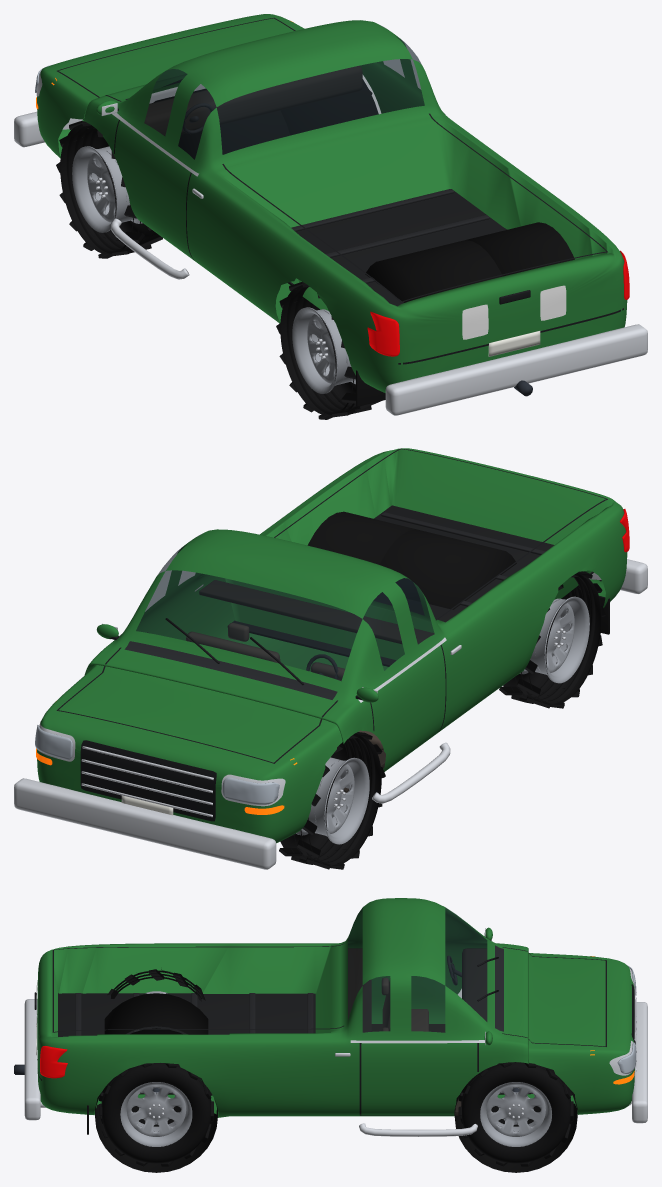
File: PickupTruck.fbx
3 views of the same model, one above another, from view 1: azimuth 30°, elevation 25°; view 2: azimuth 150°, elevation 25°; view 3: azimuth 270°, elevation 25° (orthographic). The views are drawn at different scales.
Visible parts, largest first — view 1: PickupTruck_Body, PickupTruck_Trim, PickupTruck_Glass, PickupTruck_Wheel1, PickupTruck_Wheel3, PickupTruck_Lights; view 2: PickupTruck_Body, PickupTruck_Trim, PickupTruck_Glass, PickupTruck_Wheel1, PickupTruck_Wheel3, PickupTruck_Lights; view 3: PickupTruck_Body, PickupTruck_Trim, PickupTruck_Wheel4, PickupTruck_Wheel2, PickupTruck_Glass, PickupTruck_Lights, PickupTruck_Wheel3.
Boxes of the visible parts, left/top/right/bottom form: PickupTruck_Body: left=37, top=14, right=627, bottom=392; PickupTruck_Trim: left=14, top=17, right=647, bottom=415; PickupTruck_Glass: left=144, top=26, right=424, bottom=159; PickupTruck_Wheel1: left=56, top=121, right=162, bottom=258; PickupTruck_Wheel3: left=276, top=281, right=380, bottom=419; PickupTruck_Lights: left=35, top=21, right=629, bottom=356; PickupTruck_Body: left=37, top=448, right=627, bottom=843; PickupTruck_Trim: left=14, top=448, right=647, bottom=869; PickupTruck_Glass: left=136, top=534, right=434, bottom=680; PickupTruck_Wheel1: left=279, top=732, right=385, bottom=869; PickupTruck_Wheel3: left=499, top=571, right=605, bottom=708; PickupTruck_Lights: left=35, top=509, right=629, bottom=814; PickupTruck_Body: left=37, top=898, right=634, bottom=1117; PickupTruck_Trim: left=14, top=928, right=647, bottom=1172; PickupTruck_Wheel4: left=99, top=1063, right=213, bottom=1166; PickupTruck_Wheel2: left=458, top=1062, right=573, bottom=1166; PickupTruck_Glass: left=348, top=908, right=486, bottom=1032; PickupTruck_Lights: left=36, top=956, right=636, bottom=1105; PickupTruck_Wheel3: left=107, top=969, right=205, bottom=1001.
Bounding box in the file's own units: 8.25 × 6.59 × 19.67.
